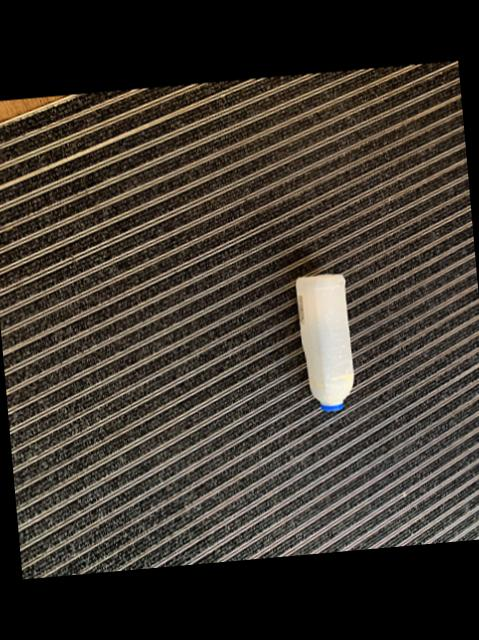plastic: (295, 272, 352, 409)
